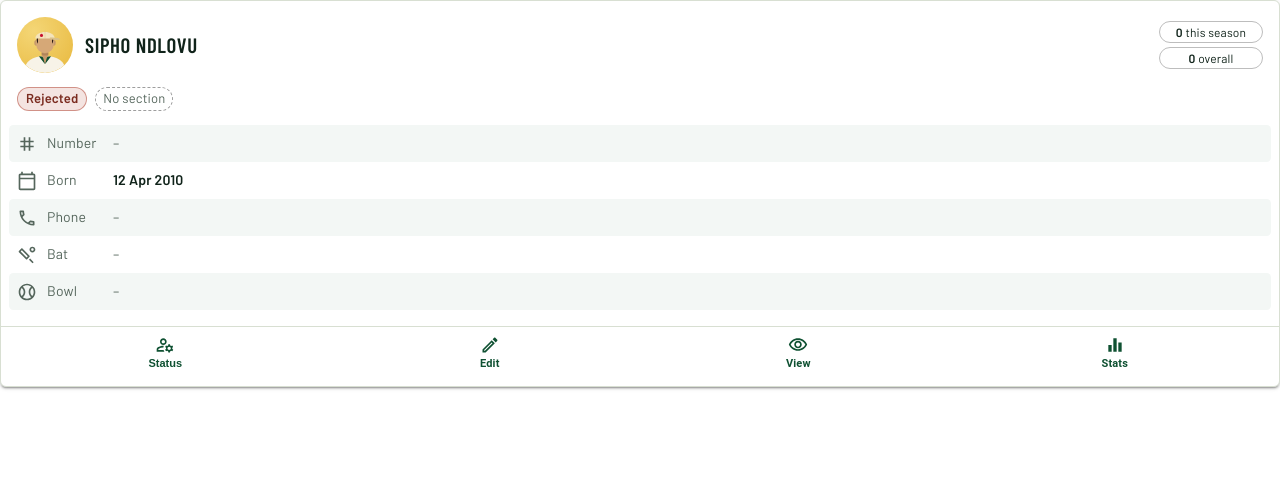
Test: PlayerCard › footer and the Status menu › the Status button of {"verificationStatus":"REJECTED","active":true} offers ["Verify"]
This screenshot has width=1280, height=487.
Click the button with aria-label "Change status".
click(165, 353)  # box [9, 327, 322, 378]
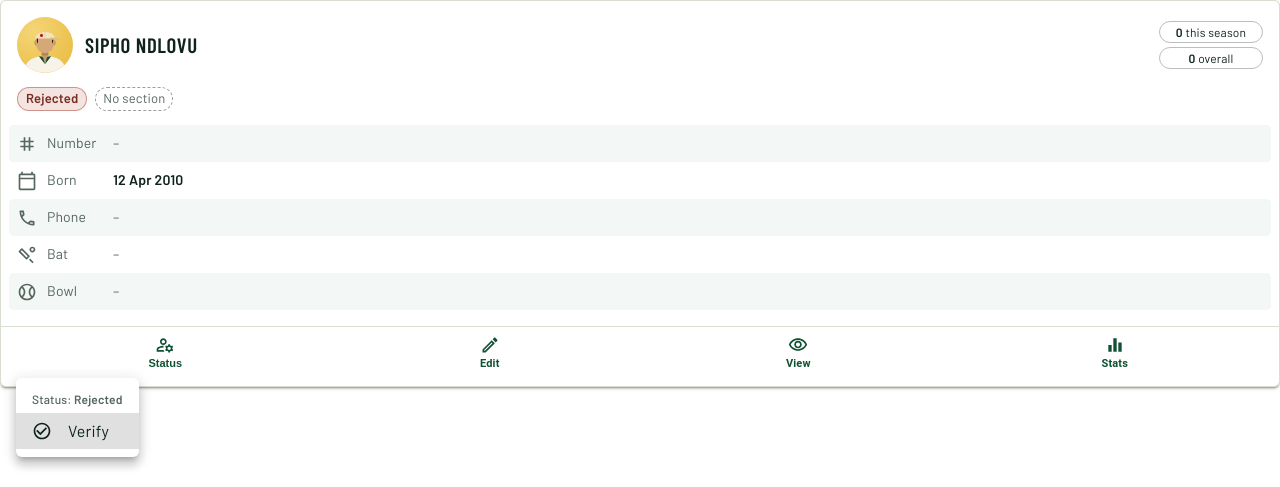
expect the menu items read "Verify", in this order: met, box [16, 413, 138, 449]
